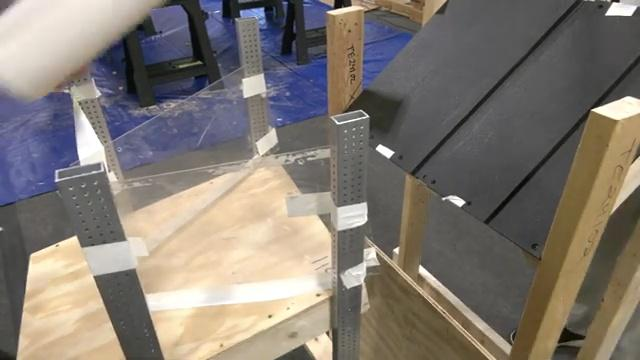CORAL: (0, 0, 167, 103)
